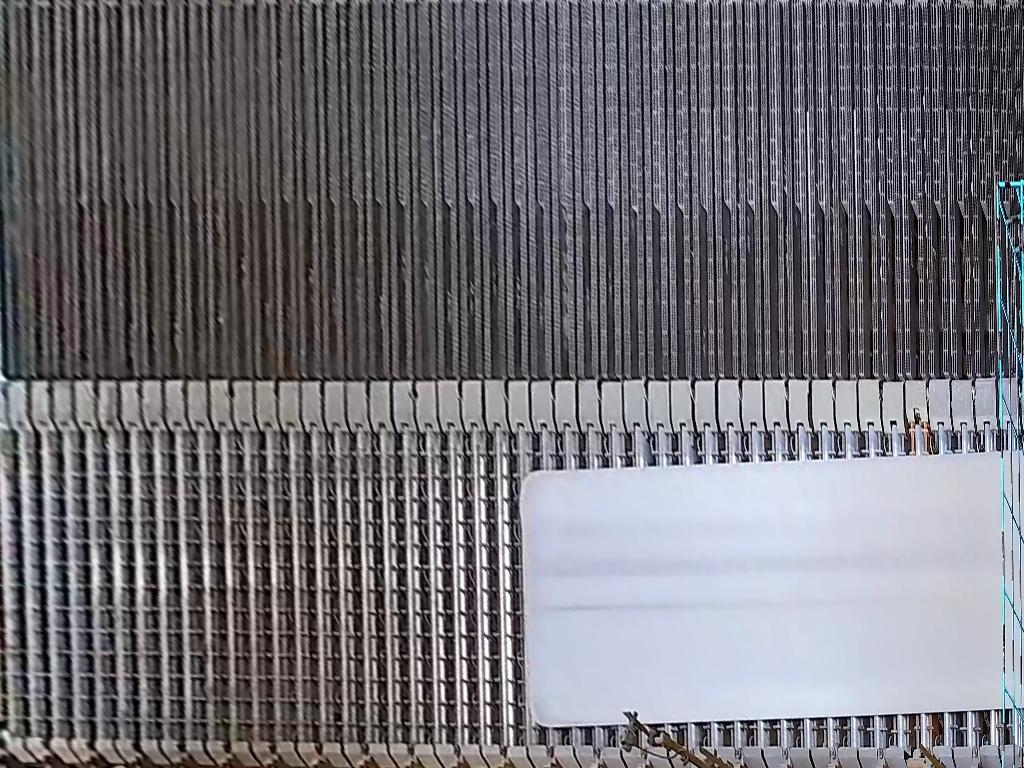steel: (523, 450, 1024, 730)
